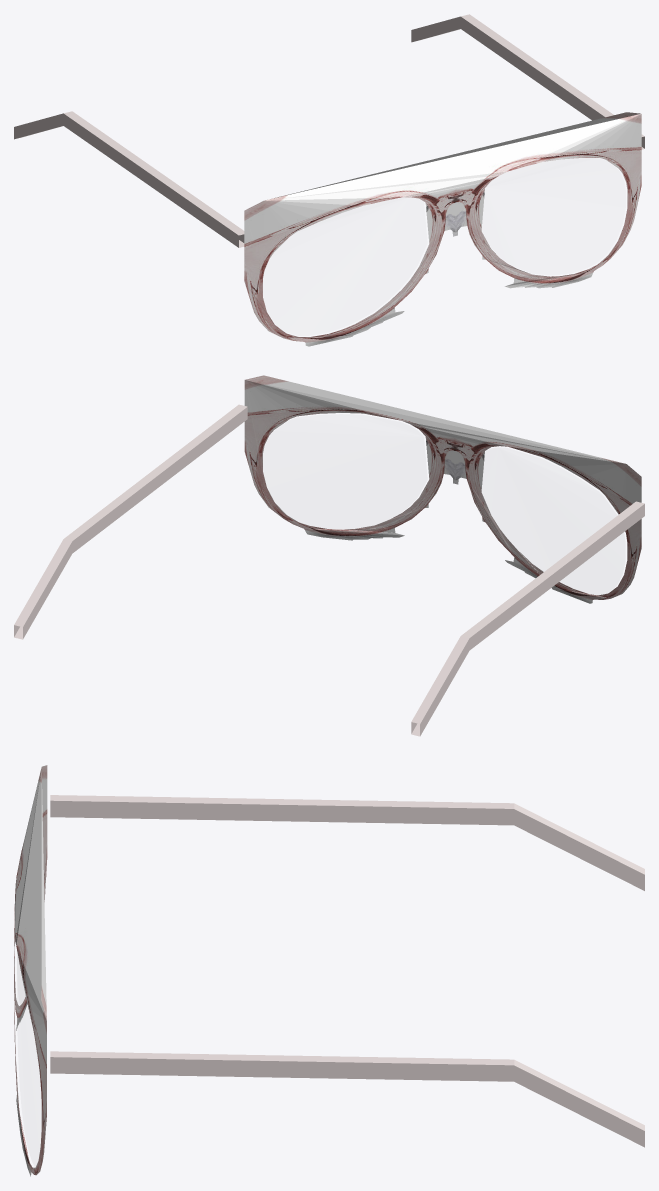
File: times-square-easy-fit-1_pink.glb
3 views of the same model, one above another, from view 1: azimuth 30°, elevation 25°; view 2: azimuth 150°, elevation 25°; view 3: azimuth 270°, elevation 25° (orthographic). The views are drawn at different scales.
Visible parts, largest first — view 1: frame_front, temple_viewer_left, temple_viewer_right; view 2: frame_front, temple_viewer_left, temple_viewer_right; view 3: temple_viewer_left, temple_viewer_right, frame_front.
Part boxes in pixels (x1,y1,x2,y2): frame_front: (244, 112, 641, 346); temple_viewer_left: (14, 111, 244, 247); temple_viewer_right: (411, 14, 644, 149); frame_front: (244, 375, 641, 603); temple_viewer_left: (411, 501, 644, 736); temple_viewer_right: (14, 404, 247, 639); temple_viewer_left: (50, 795, 644, 890); temple_viewer_right: (50, 1051, 644, 1147); frame_front: (14, 765, 47, 1176).
Size of the model in its own units: 0.1366 by 0.0492 by 0.139.
Materials: 3 (2 with a texture image).
